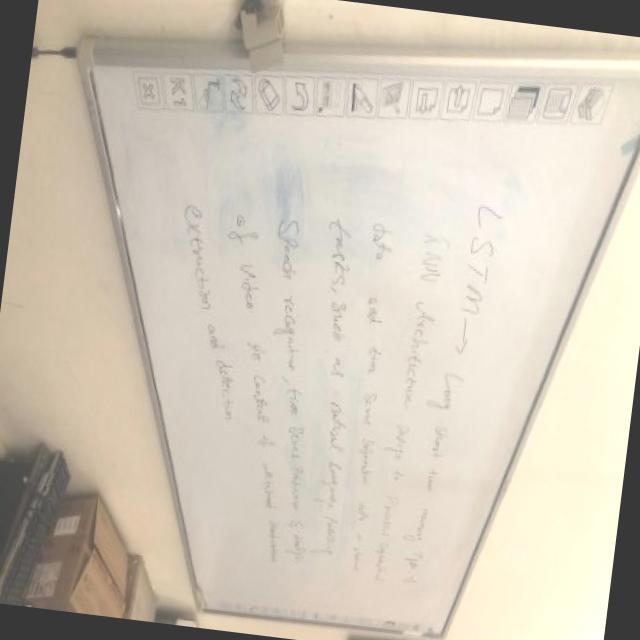White-board: (86, 55, 640, 638)
